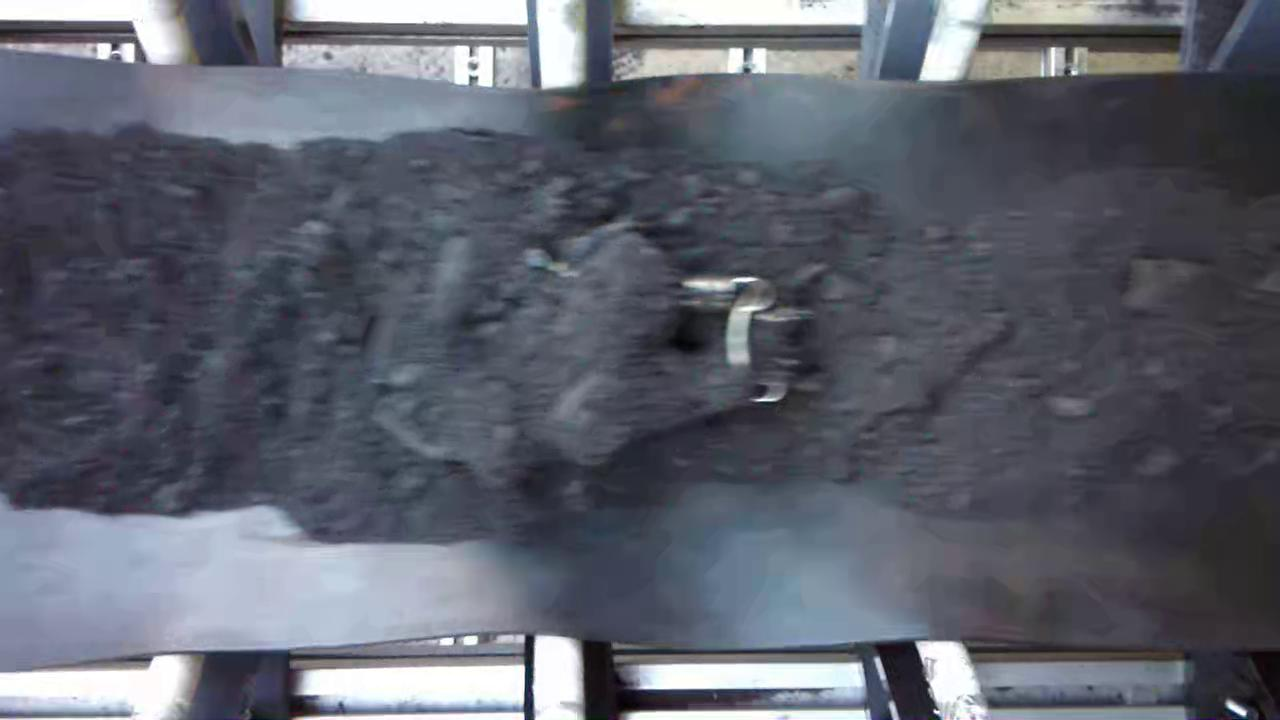conveyor: (8, 78, 1280, 637)
